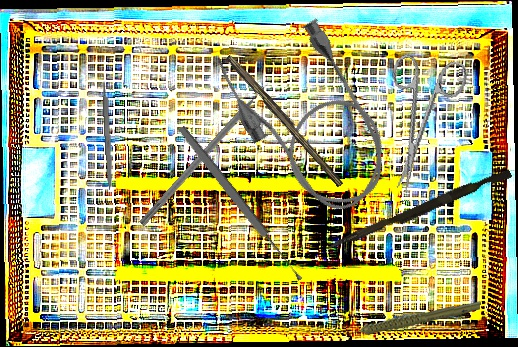Cannula: (207, 6, 410, 234)
Handpiece: (341, 295, 481, 341)
Hook Surgical: (138, 81, 273, 228)
Iris Scissors: (364, 47, 470, 198)
Pusher: (324, 164, 513, 258)
Scalpel Handle: (223, 52, 348, 188), (101, 79, 115, 192)
Surgical Spoon: (176, 124, 305, 284)
